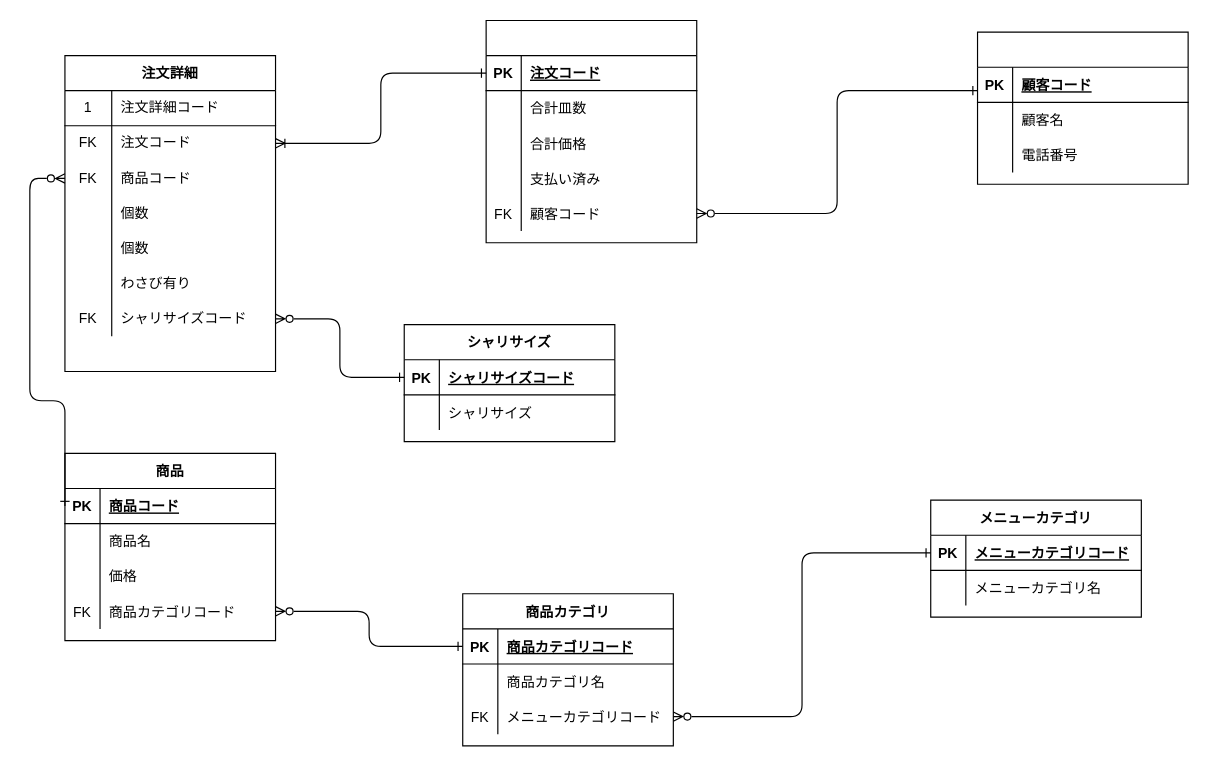
Some shapes in this 1209 by 766 pixel diagram are drawn without their labels. The box of each missing label's shape, as (x1, y1, x2, y2) in pixels:
注文表: (485, 19, 697, 243)
顧客: (976, 31, 1188, 184)
